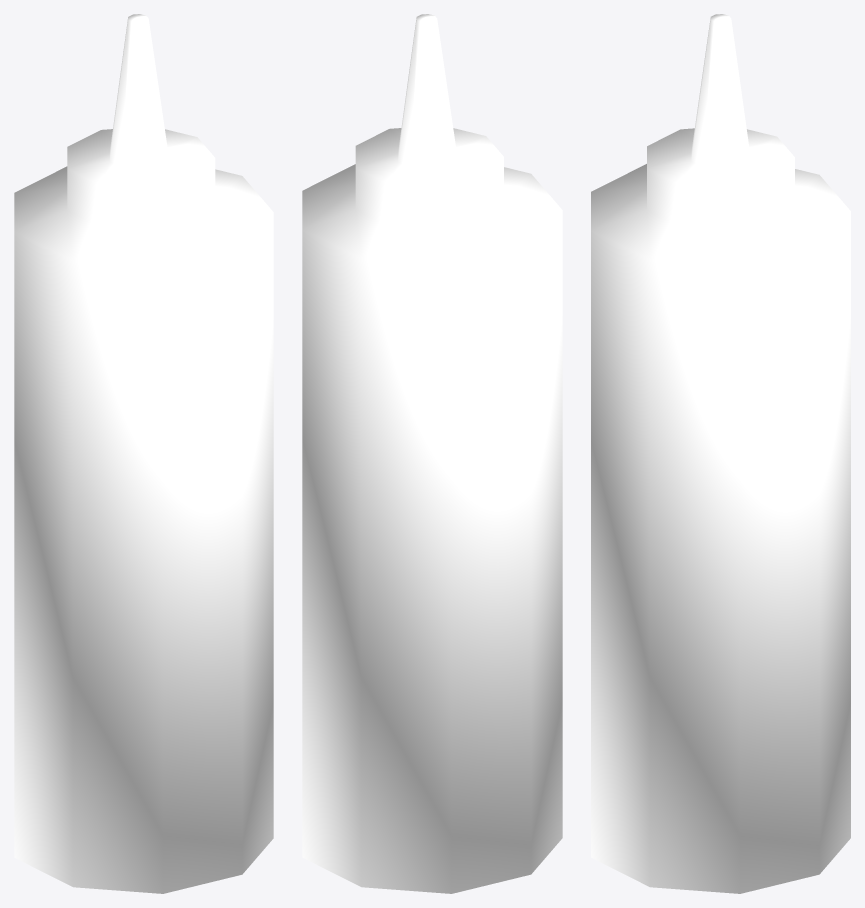
Rendered from SqueezeBottleSourCream.glb.
3 renders of one model, left to right at view 1: azimuth 30°, elevation 25°; view 2: azimuth 150°, elevation 25°; view 3: azimuth 270°, elevation 25°, orthographic.
Visible parts, largest first — view 1: SqueezeBottleSourCream; view 2: SqueezeBottleSourCream; view 3: SqueezeBottleSourCream.
Part boxes in pixels (<box>): SqueezeBottleSourCream: <box>14,14,273,893</box>; SqueezeBottleSourCream: <box>302,14,562,893</box>; SqueezeBottleSourCream: <box>591,14,850,893</box>.
Bounding box in the file's own units: 0.0985 × 0.3435 × 0.097.
1 material, 1 textured.
